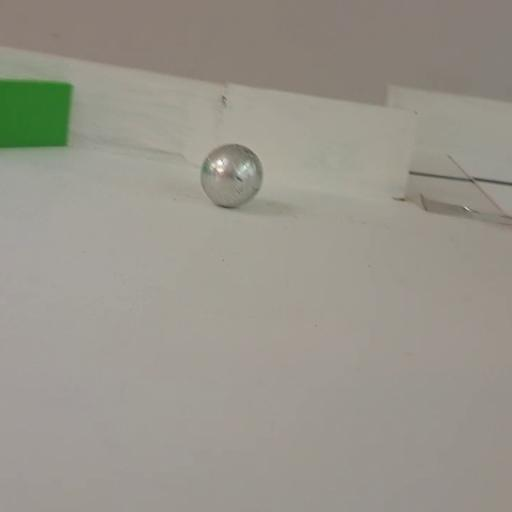alive: (199, 142, 264, 208)
